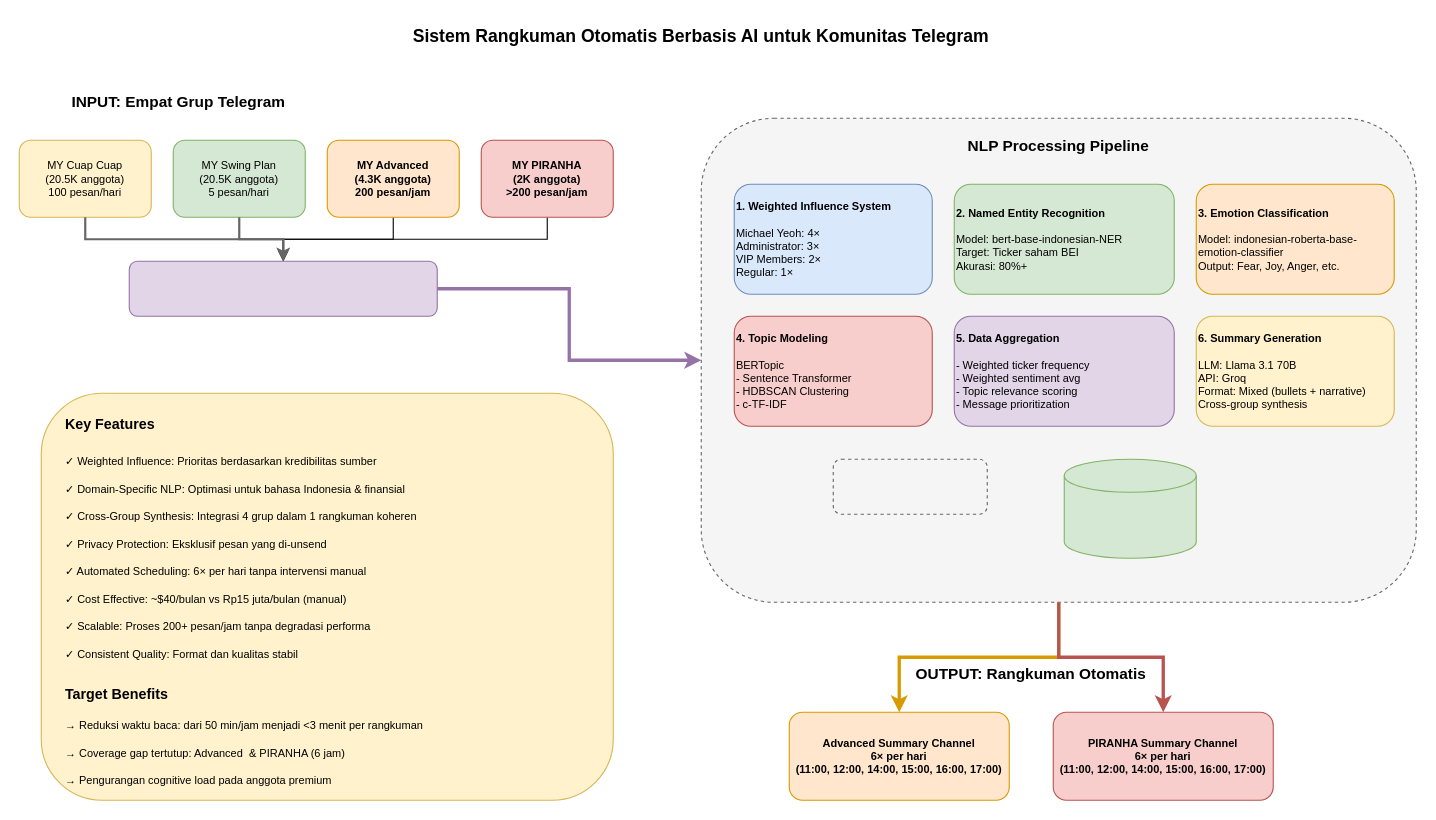
Image size: 1436x820. Some labels were removed from this diagram. Each missing label, with the centre of its shape:
Database Historical summaries Metadata storage: point (1129, 508)
Privacy Filter Exclude unsent messages: point (909, 486)
Telegram Bot API (Real-time Message Collection): point (282, 288)
